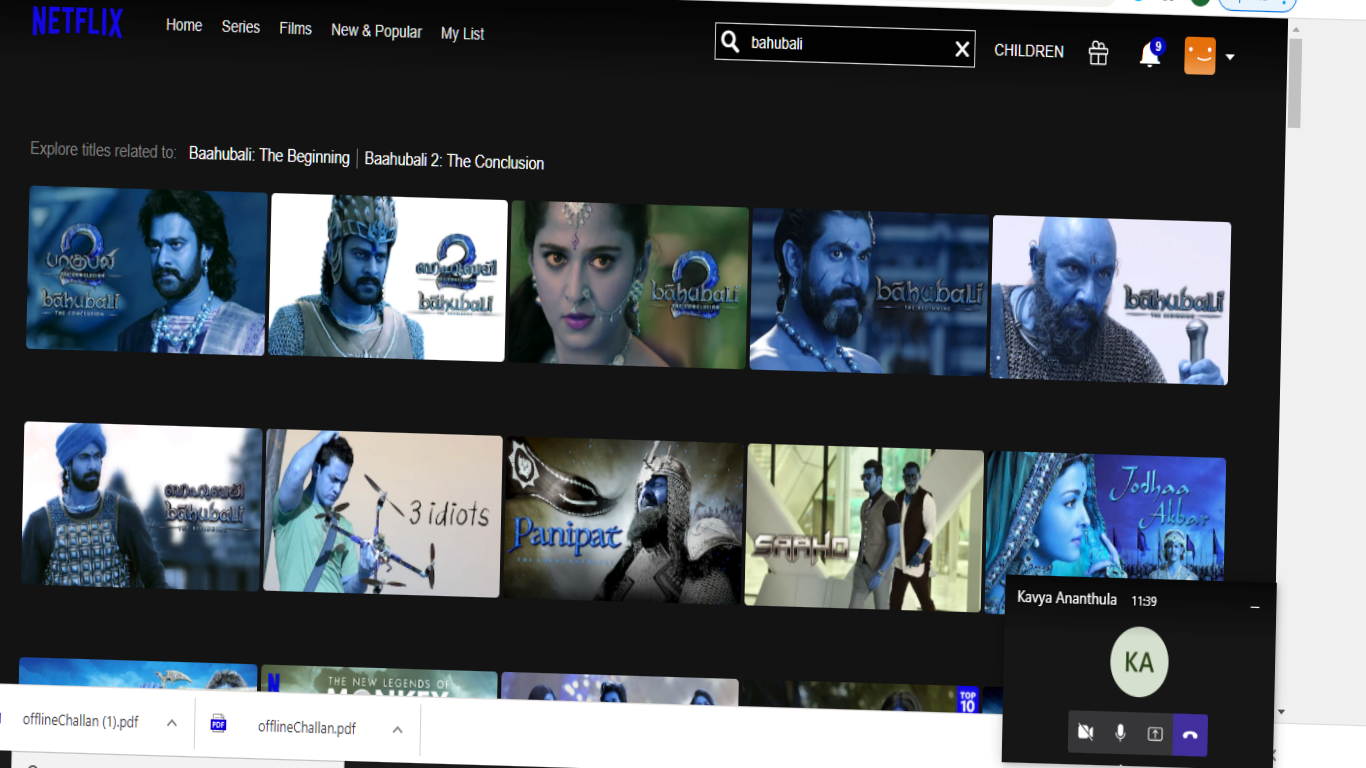mywatchlistbutton: (442, 16, 504, 60)
profileicon: (1179, 30, 1234, 90)
resultsfound: (29, 123, 552, 197)
searchicon: (714, 19, 746, 60)
searchtextbox: (715, 15, 981, 70)
